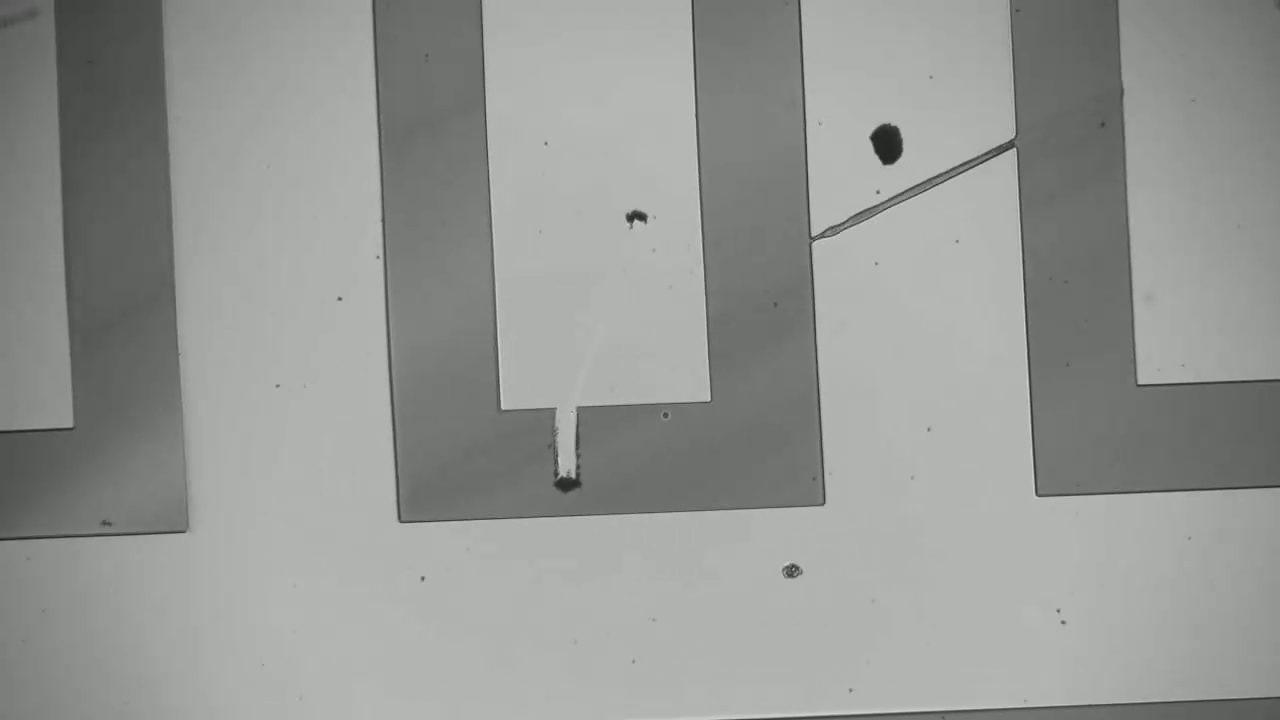Short_circuit: (538, 389, 618, 536)
